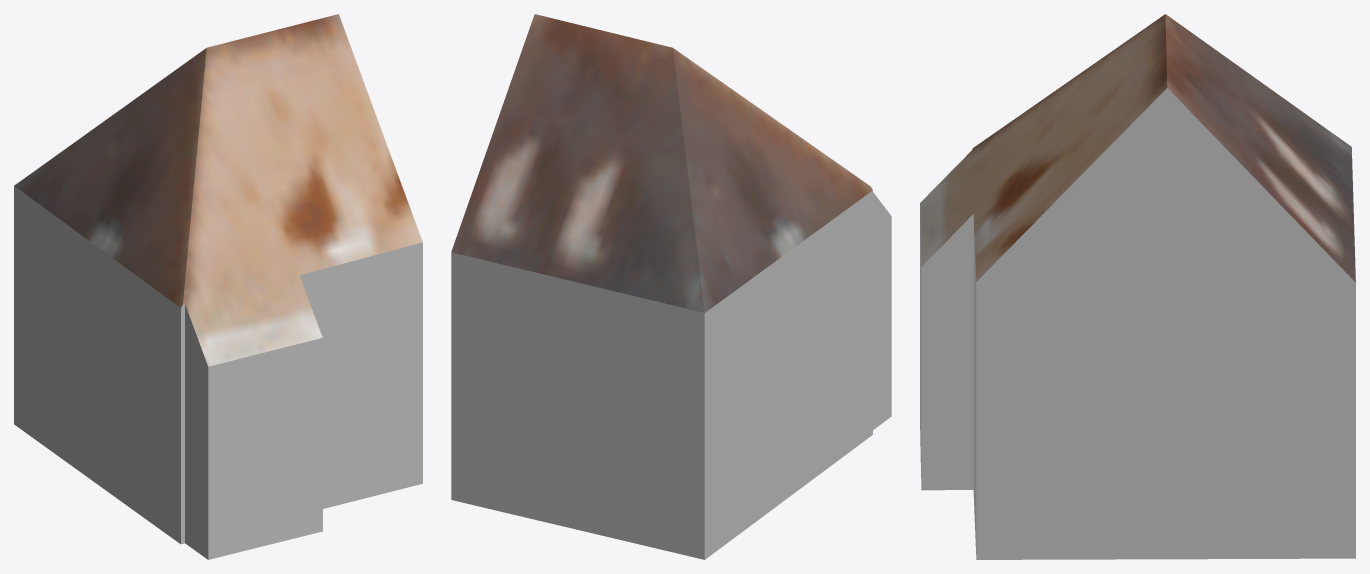
File: DEBW_0010007Txe6.gltf
3 views of the same model, side by side, from view 1: azimuth 30°, elevation 25°; view 2: azimuth 150°, elevation 25°; view 3: azimuth 270°, elevation 25° (orthographic). The views are drawn at different scales.
Parts seen in each view (by area): view 1: Z_UP; view 2: Z_UP; view 3: Z_UP.
Part boxes in pixels (bbox=[...]): Z_UP: bbox=[14, 14, 422, 559]; Z_UP: bbox=[451, 14, 891, 559]; Z_UP: bbox=[920, 14, 1355, 559].
Bounding box in the file's own units: 8.07 × 12.84 × 10.76.
Materials: 2 (1 with a texture image).
